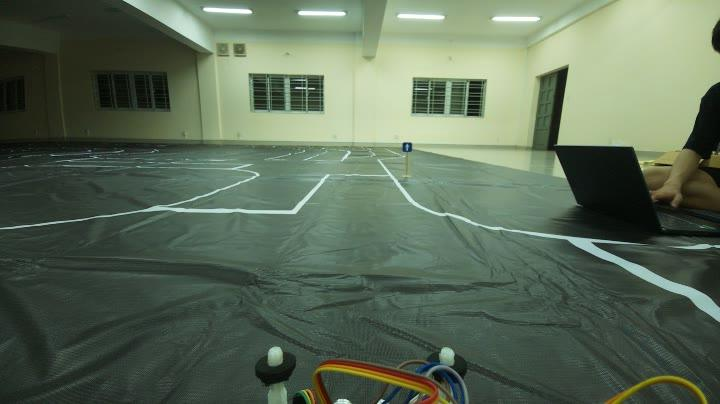onewayroad: (397, 136, 417, 155)
